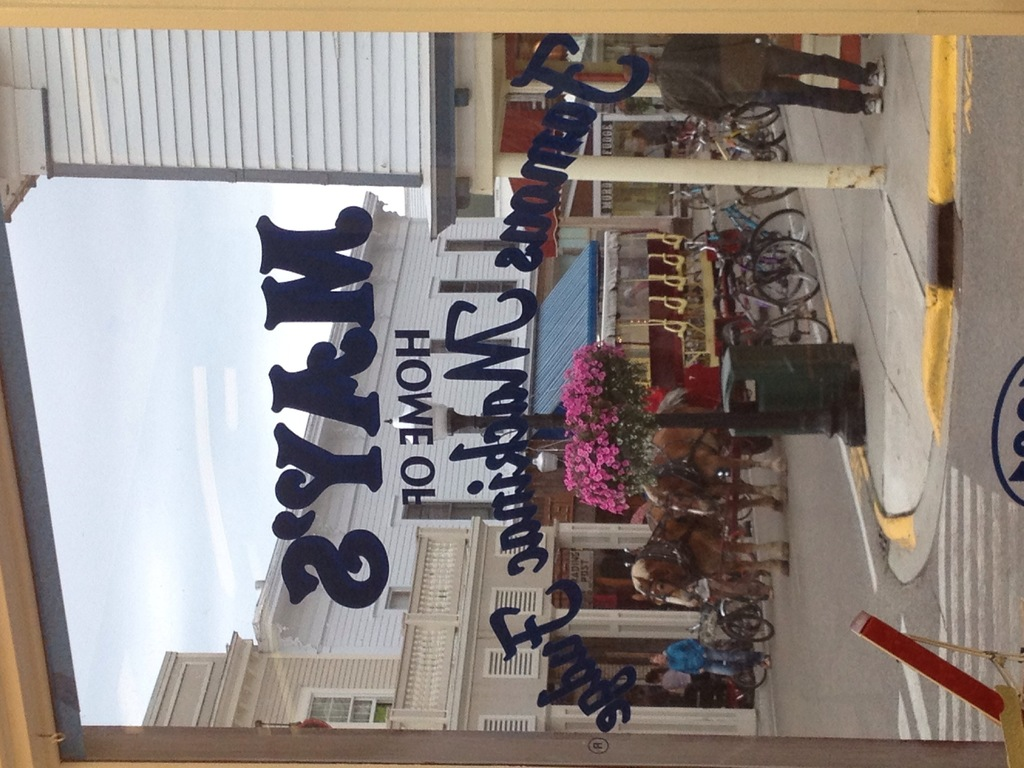Footwear: (865, 53, 884, 86), (866, 94, 886, 115)
